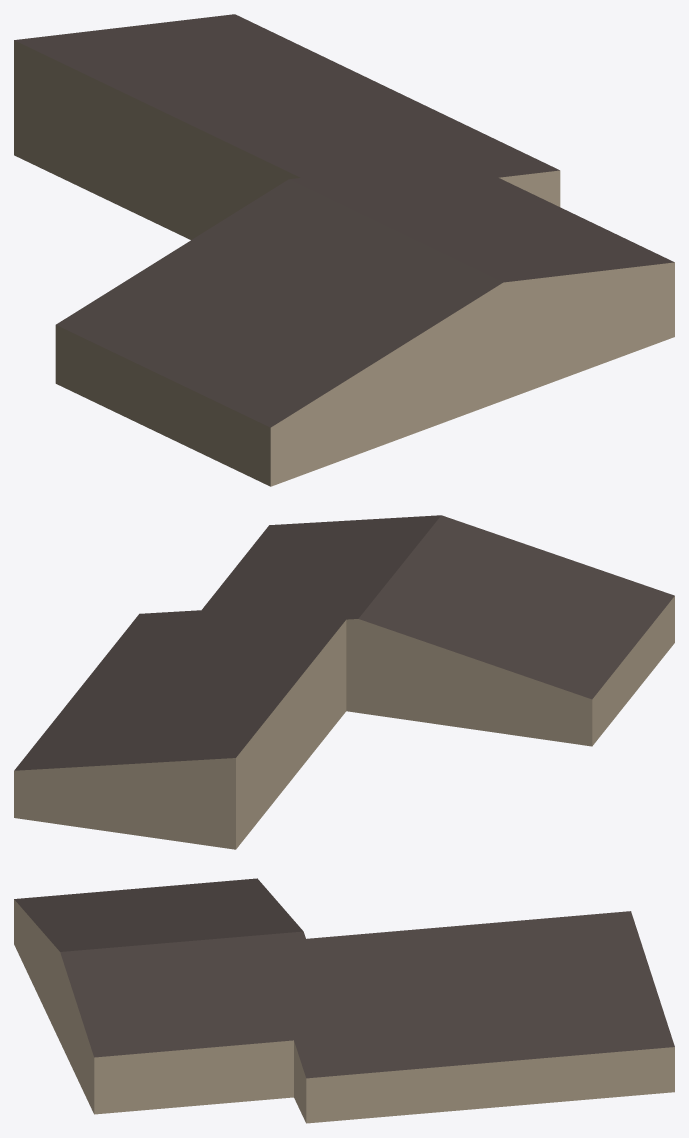
3 renders of one model, top to bottom at view 1: azimuth 30°, elevation 25°; view 2: azimuth 150°, elevation 25°; view 3: azimuth 270°, elevation 25°, orthographic. The views are drawn at different scales.
Parts seen in each view (by area): view 1: HP-w228035345; view 2: HP-w228035345; view 3: HP-w228035345.
Part boxes in pixels (<box>): HP-w228035345: <box>14,14,674,486</box>; HP-w228035345: <box>14,515,674,849</box>; HP-w228035345: <box>14,878,674,1123</box>.
Size of the model in its own units: 28.53 by 6 by 39.85.
